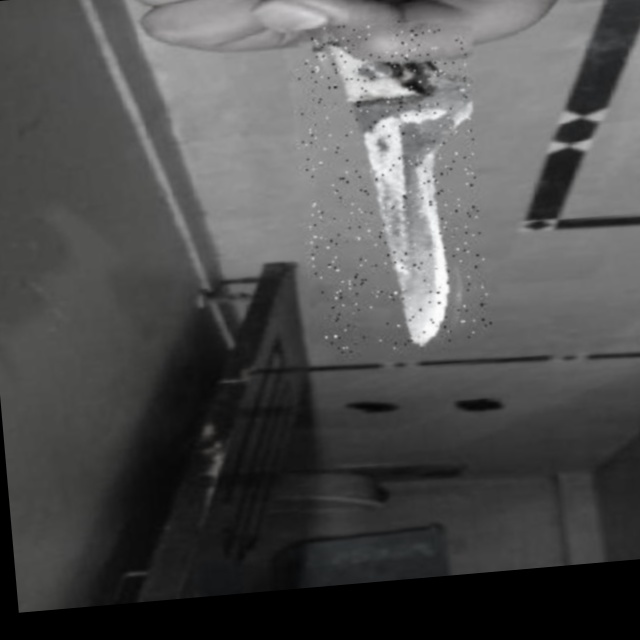Sharp-Object: (292, 15, 492, 355)
